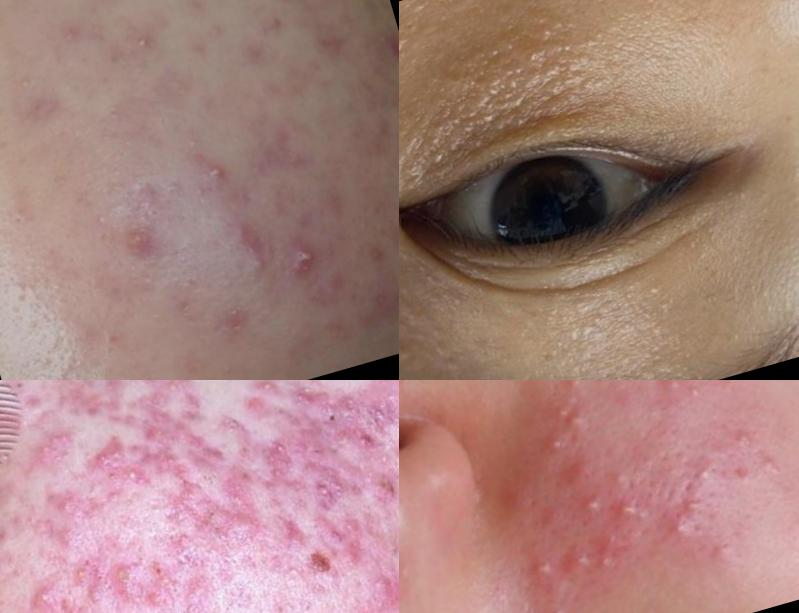papular: (110, 197, 170, 265), (214, 197, 267, 249), (669, 481, 717, 527), (706, 531, 748, 577), (599, 456, 640, 499), (504, 480, 540, 518), (558, 456, 594, 494), (657, 381, 692, 402)
purulent: (282, 209, 339, 285), (186, 140, 245, 193), (551, 393, 592, 441), (563, 536, 602, 578), (611, 491, 648, 532), (528, 547, 563, 587), (574, 487, 610, 521), (663, 512, 698, 546), (545, 426, 577, 461), (591, 548, 625, 579), (542, 592, 579, 613)
sebo-crystan-conglo: (303, 463, 359, 521), (309, 413, 375, 462), (315, 381, 376, 424), (92, 430, 146, 476), (102, 551, 145, 599), (55, 481, 102, 521), (32, 426, 79, 464), (265, 442, 303, 487), (367, 460, 400, 505)
syringoma: (400, 10, 636, 163), (536, 266, 734, 381), (400, 302, 472, 381)
whitehead: (119, 11, 165, 67), (400, 548, 435, 590), (689, 455, 724, 495), (539, 496, 576, 533), (678, 381, 716, 411), (726, 420, 758, 451), (761, 447, 788, 477)
